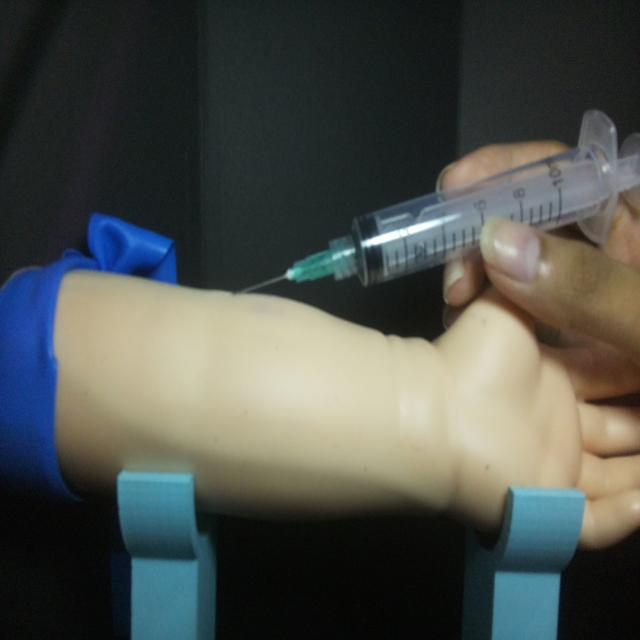20deg: (231, 106, 637, 300)
